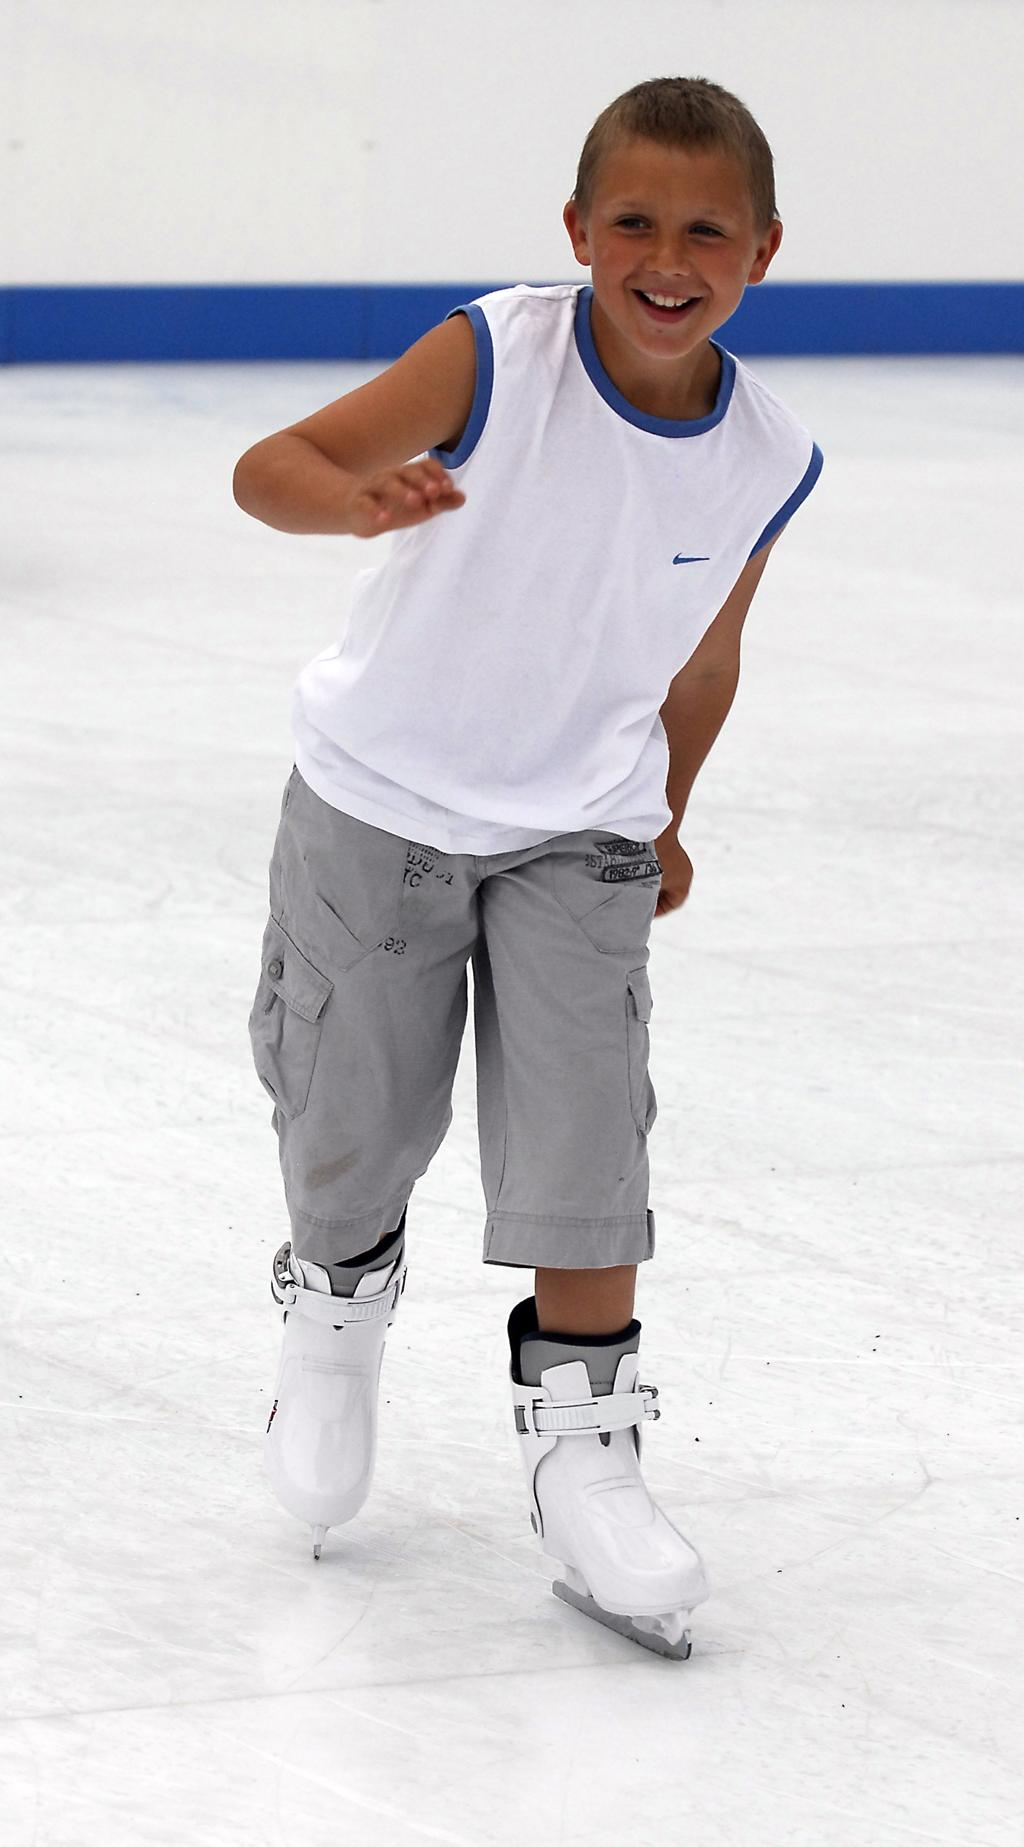face: (588, 133, 757, 360)
